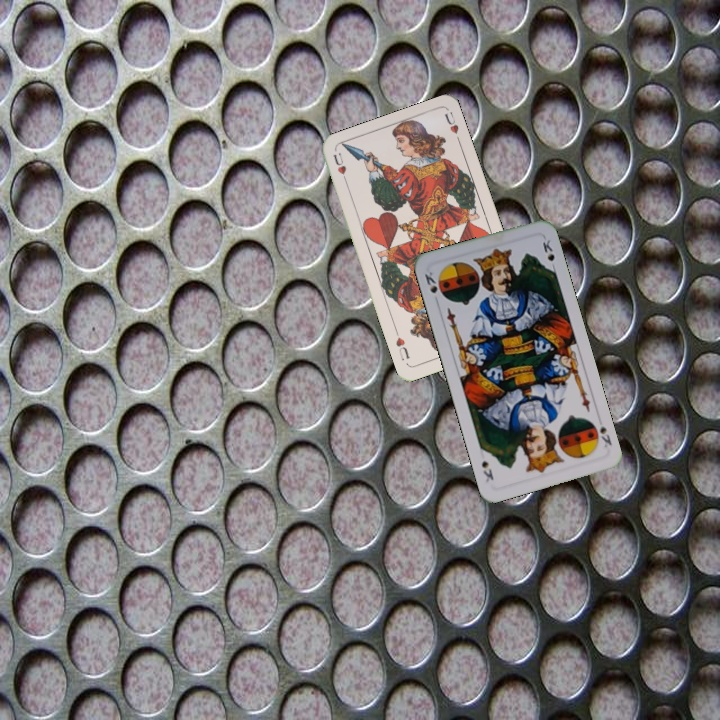HU: (329, 149, 350, 187)
SK: (420, 267, 440, 296), (596, 422, 614, 450)
